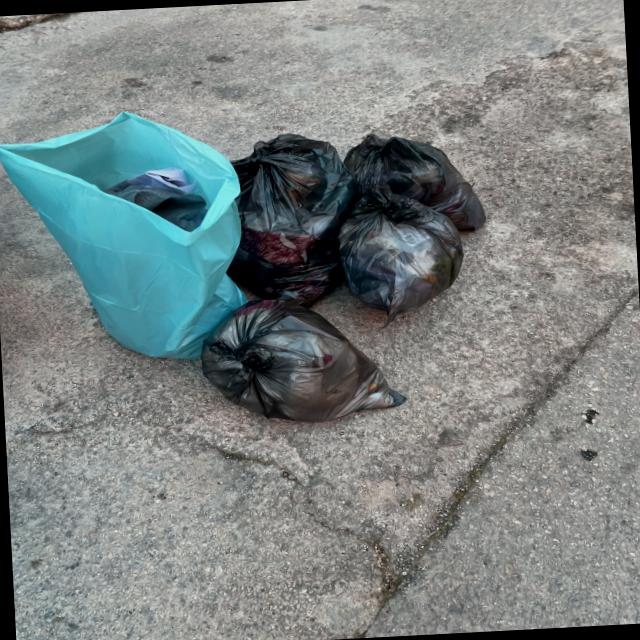black_bag: (190, 292, 420, 428), (232, 131, 346, 301), (338, 190, 470, 311), (342, 130, 493, 231)
other_waste: (0, 101, 238, 366)
